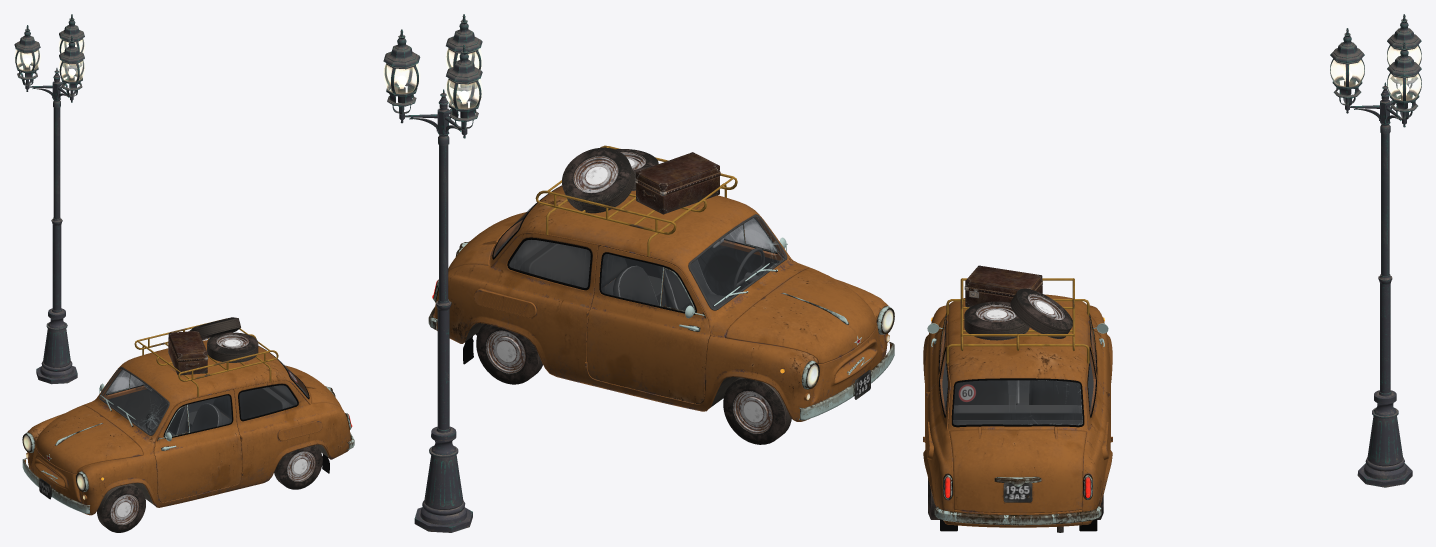
Rendered from car_scene.glb.
The picture shows the model from 3 angles, left to right: view 1: azimuth 30°, elevation 25°; view 2: azimuth 150°, elevation 25°; view 3: azimuth 270°, elevation 25°; orthographic projection. The views are drawn at different scales.
Parts seen in each view (by area): view 1: car_body, door_left, hood, interior_01, vintage_lantern_7_base, vintage_lantern_7_lantern_wall_base_1_0, wheel_00, wheel_01, door_right, wheel_004, railings, glass_00 (+7 smaller); view 2: car_body, door_right, hood, interior_01, vintage_lantern_7_base, vintage_lantern_7_lantern_wall_base_1_0, wheel_005, wheel_03, wheel_02, door_left, glass_01, chest_top_chest_0 (+8 smaller); view 3: car_body, back_door, interior_01, vintage_lantern_7_base, vintage_lantern_7_lantern_wall_base_1_0, wheel_005, wheel_004, rear_bumper, railings, chest_top_chest_0, vintage_lantern_glass_7_lantern_wall_glass_1_0, door_right (+1 smaller).
Part boxes in pixels (bbox=[...]): car_body: bbox=[22, 340, 351, 515]; door_left: bbox=[154, 389, 243, 502]; hood: bbox=[35, 405, 143, 473]; interior_01: bbox=[100, 368, 308, 459]; vintage_lantern_7_base: bbox=[25, 68, 77, 384]; vintage_lantern_7_lantern_wall_base_1_0: bbox=[14, 14, 84, 219]; wheel_00: bbox=[97, 483, 145, 532]; wheel_01: bbox=[274, 445, 322, 489]; door_right: bbox=[99, 374, 162, 425]; wheel_004: bbox=[207, 332, 258, 362]; railings: bbox=[134, 318, 278, 397]; glass_00: bbox=[187, 395, 231, 432]; car_body: bbox=[433, 185, 894, 421]; door_right: bbox=[585, 246, 710, 403]; hood: bbox=[725, 268, 876, 363]; interior_01: bbox=[494, 216, 785, 332]; vintage_lantern_7_base: bbox=[399, 89, 472, 532]; vintage_lantern_7_lantern_wall_base_1_0: bbox=[383, 14, 482, 301]; wheel_005: bbox=[562, 147, 634, 213]; wheel_03: bbox=[723, 377, 791, 444]; wheel_02: bbox=[476, 323, 542, 384]; door_left: bbox=[697, 224, 787, 296]; glass_01: bbox=[601, 254, 663, 306]; chest_top_chest_0: bbox=[635, 152, 720, 195]; car_body: bbox=[923, 294, 1112, 531]; back_door: bbox=[949, 426, 1086, 513]; interior_01: bbox=[940, 332, 1095, 425]; vintage_lantern_7_base: bbox=[1345, 82, 1412, 487]; vintage_lantern_7_lantern_wall_base_1_0: bbox=[1330, 14, 1421, 276]; wheel_005: bbox=[1010, 288, 1072, 338]; wheel_004: bbox=[964, 301, 1029, 340]; rear_bumper: bbox=[934, 506, 1101, 525]; railings: bbox=[946, 278, 1089, 363]; chest_top_chest_0: bbox=[964, 265, 1042, 297]; vintage_lantern_glass_7_lantern_wall_glass_1_0: bbox=[1330, 46, 1421, 100]; door_right: bbox=[1089, 314, 1112, 440].
Size of what is drawn, in the model's own units: 329 by 383 by 386.
Materials: 12 (10 with a texture image).
